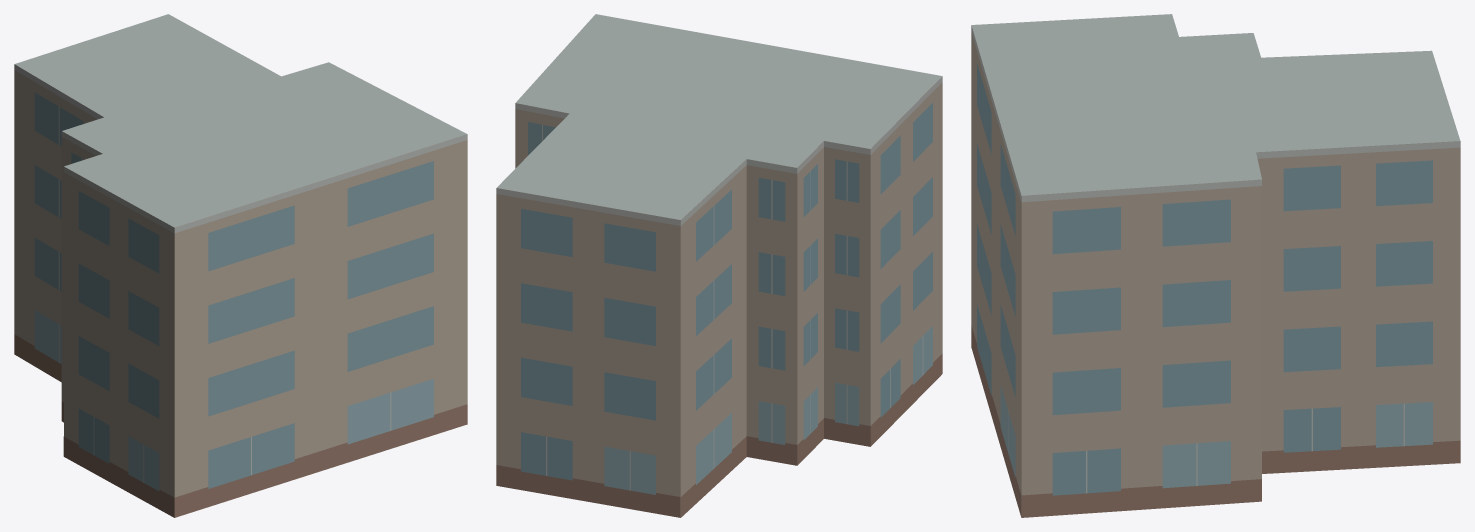
Rendered from survey-upis-32771003.glb.
3 views of the same model, side by side, from view 1: azimuth 30°, elevation 25°; view 2: azimuth 150°, elevation 25°; view 3: azimuth 270°, elevation 25° (orthographic). The views are drawn at different scales.
Parts seen in each view (by area): view 1: survey-upis-32771003.tmp; view 2: survey-upis-32771003.tmp; view 3: survey-upis-32771003.tmp.
Part boxes in pixels (<box>): survey-upis-32771003.tmp: <box>14,14,467,517</box>; survey-upis-32771003.tmp: <box>496,14,942,517</box>; survey-upis-32771003.tmp: <box>971,14,1460,517</box>.
Bounding box in the file's own units: 14.79 × 12.2 × 16.81.
